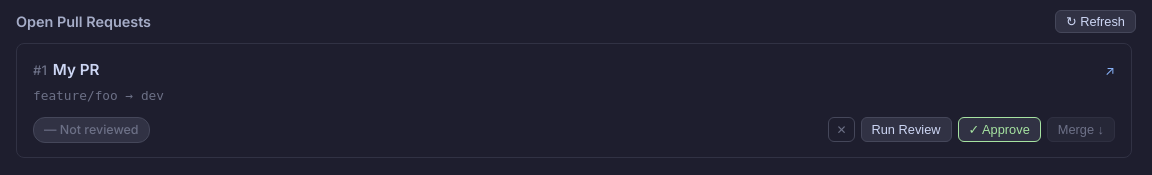
Test: PRPanel — inflight state cleared by WS events › clears reviewInFlight when prReviewEvent arrives
Click the button "Run Review".
click(906, 130)  # box [860,117,952,142]
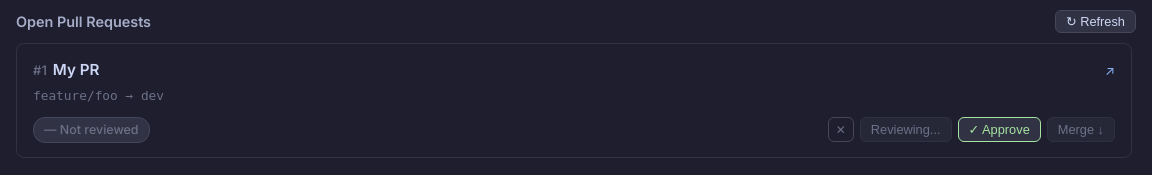
Result: the button "Reviewing..." is shown at [860,117,952,142]
